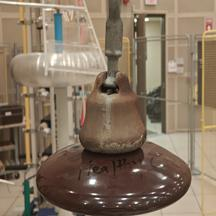insulator: (22, 64, 199, 216)
